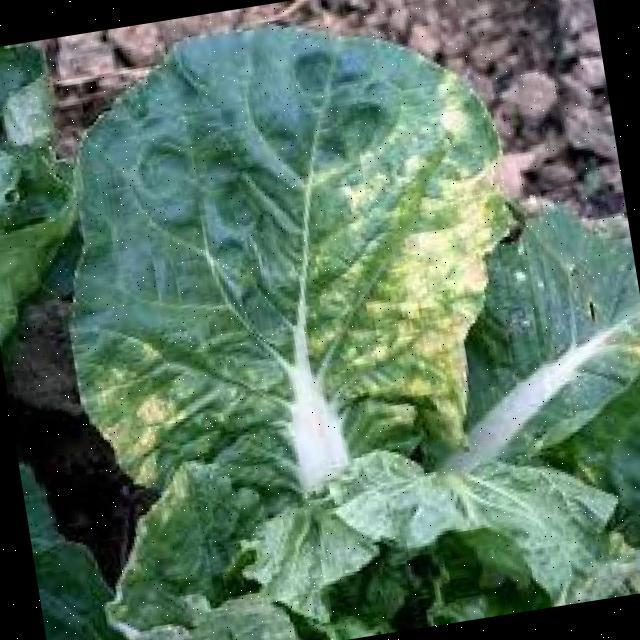Downy_Mildew: (267, 105, 516, 425)
